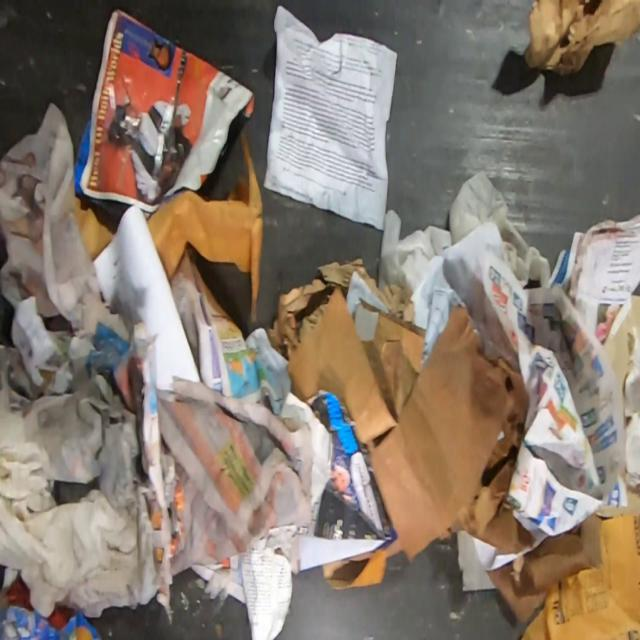cardboard: (368, 304, 538, 563), (287, 270, 427, 445), (485, 513, 606, 624), (522, 0, 640, 77), (601, 294, 640, 402), (594, 482, 640, 518)
soft_plastic: (0, 582, 104, 639)
